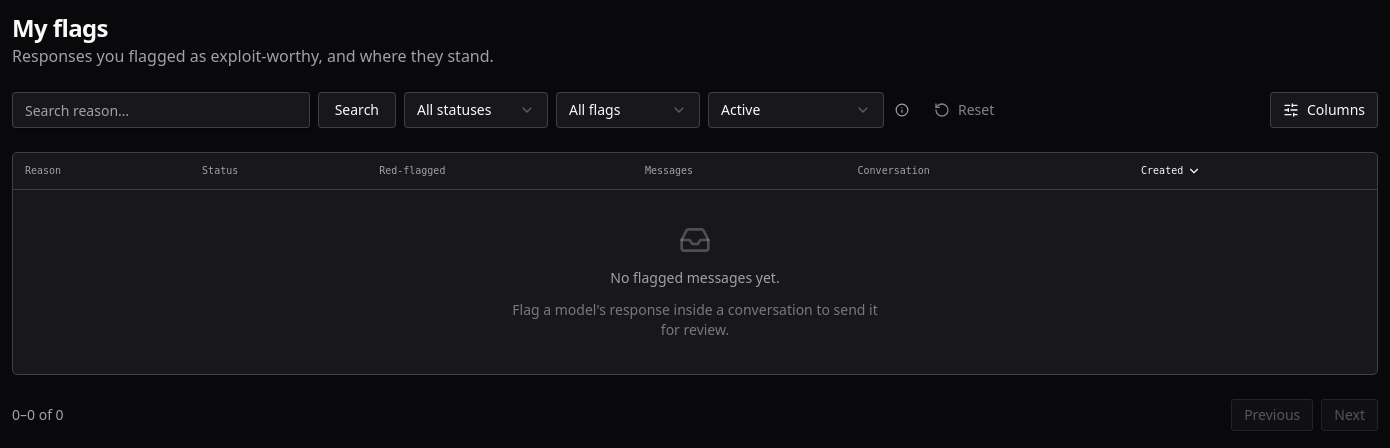
Test: MessageFlagsListPage — deleted view › restores a row through the Restore action
The width and height of the screenshot is (1390, 448).
Click the dropdown named "which flags to show".
click(796, 110)  # box [708,92,884,128]
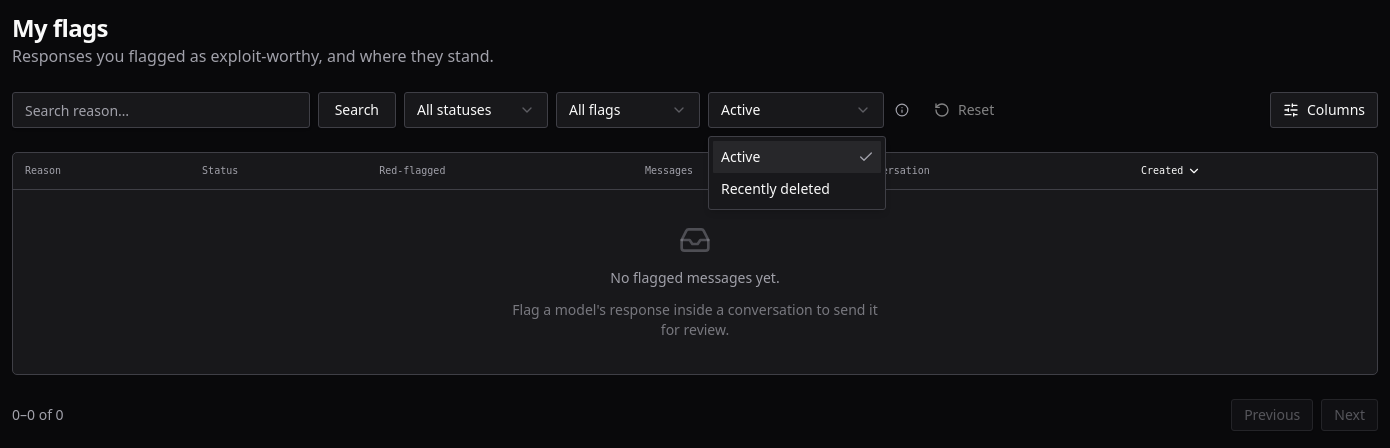
Click the option "Recently deleted".
click(775, 188)  # box [721,179,830,198]
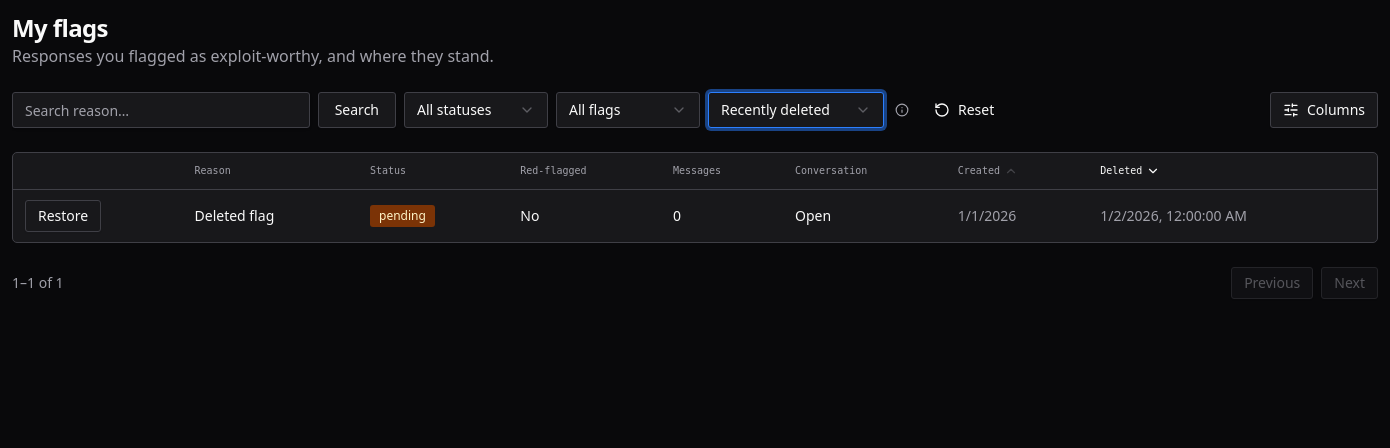
Now the button "Restore" is shown
Click the button "Restore".
click(63, 216)  # box [25,200,101,232]
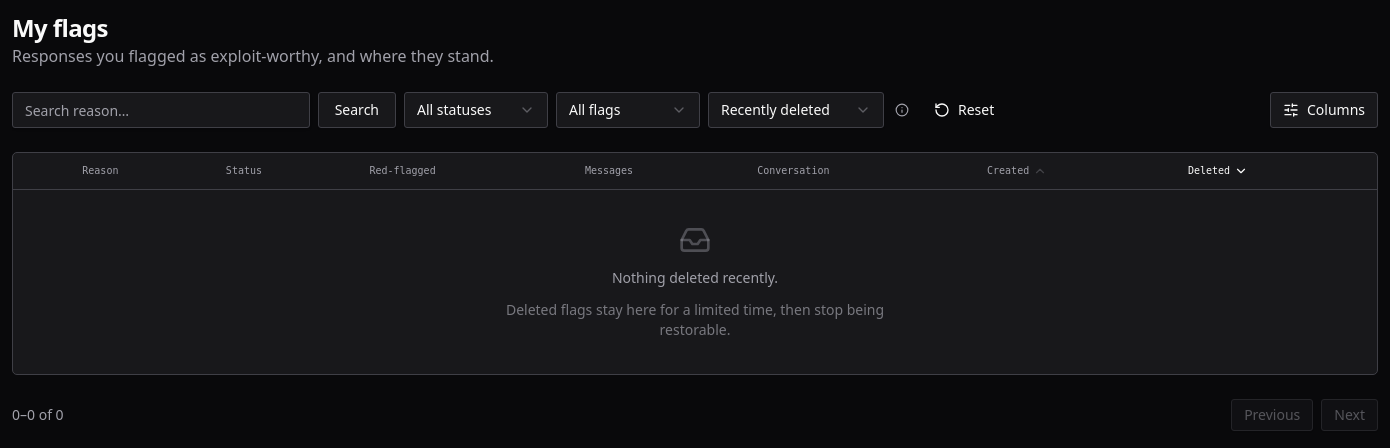
Now the button "Restore" is gone
